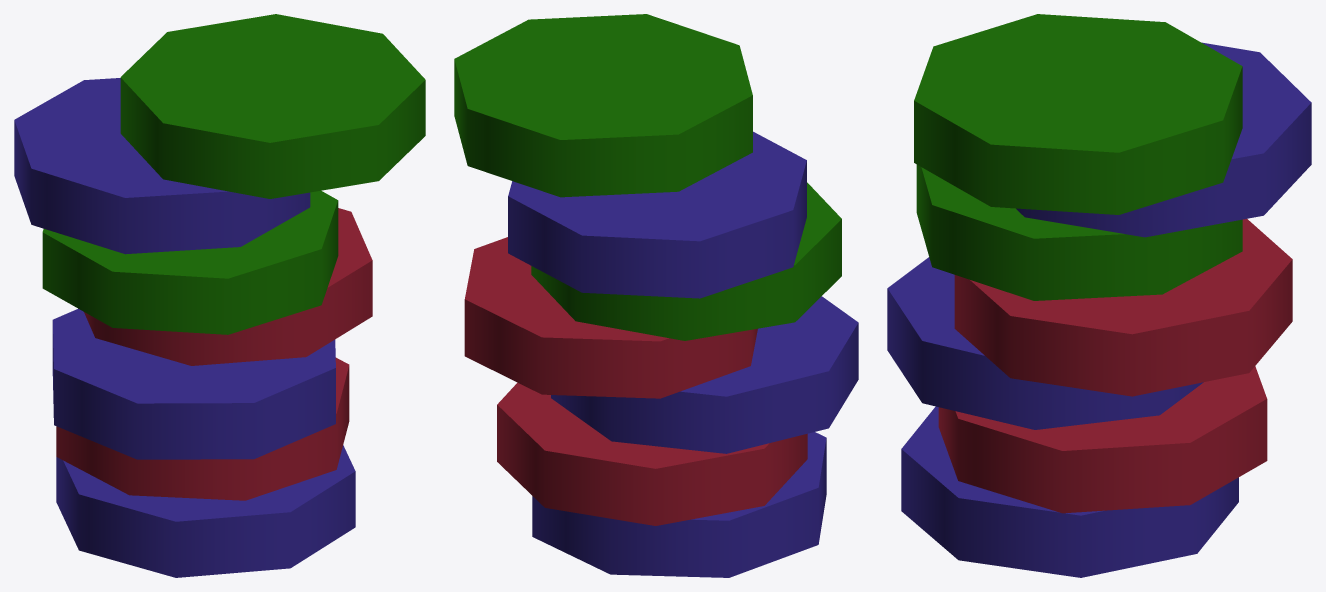
The model's file is moeda_poquer_pilha_seis.fbx.
3 renders of one model, left to right at view 1: azimuth 30°, elevation 25°; view 2: azimuth 150°, elevation 25°; view 3: azimuth 270°, elevation 25°, orthographic. The views are drawn at different scales.
Parts seen in each view (by area): view 1: moeda_poquer_pilha_seis; view 2: moeda_poquer_pilha_seis; view 3: moeda_poquer_pilha_seis.
Boxes of the visible parts, left/top/right/bottom form: moeda_poquer_pilha_seis: left=14, top=14, right=425, bottom=577; moeda_poquer_pilha_seis: left=454, top=14, right=858, bottom=577; moeda_poquer_pilha_seis: left=887, top=14, right=1311, bottom=577.
Bounding box in the file's own units: 7.2 × 8.22 × 6.84.
